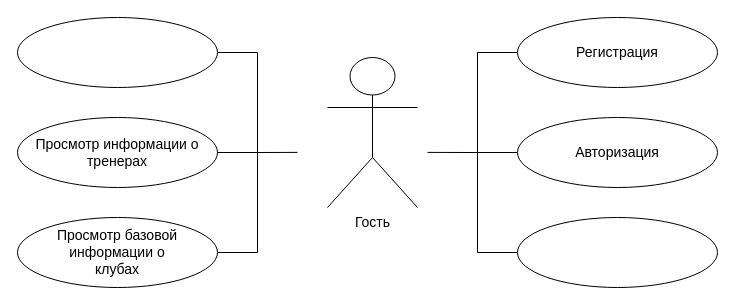
Image size: 735x305. Some labels were removed from this diagram. The box of each missing label's shape, as (x1, y1, x2, y2) in pixels:
Поиск футболистов, тренеров, клубов по параметрам: (516, 216, 718, 288)
Просмотр базовой информации о футболистах: (16, 16, 218, 88)
